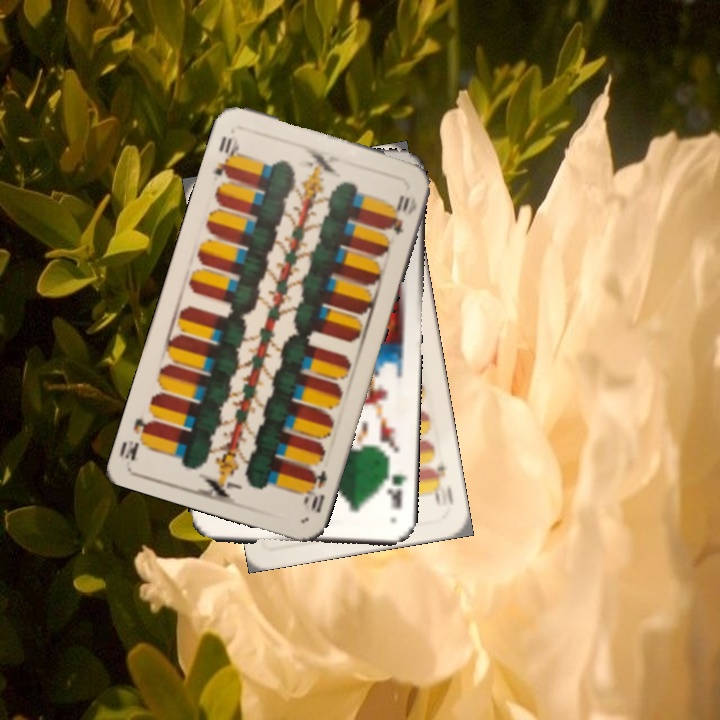E10: (210, 131, 242, 181), (299, 466, 330, 515), (426, 461, 456, 510)
GK: (382, 464, 410, 512)
